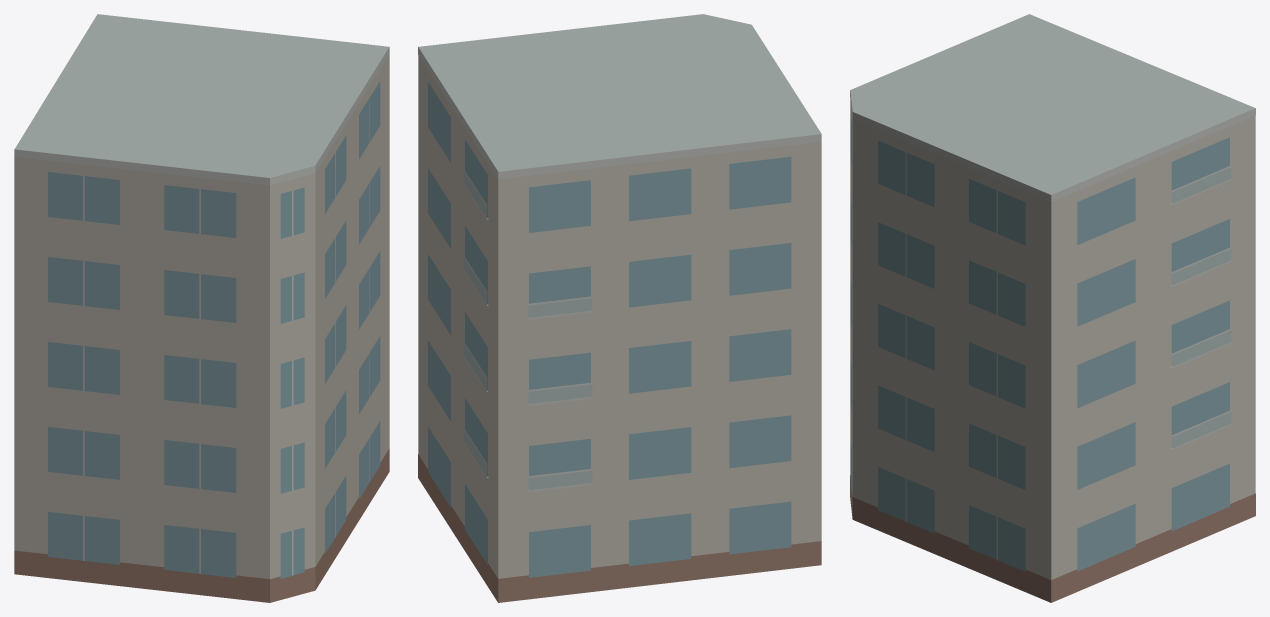
Rendered from survey-upis-32690669.glb.
3 views of the same model, side by side, from view 1: azimuth 30°, elevation 25°; view 2: azimuth 150°, elevation 25°; view 3: azimuth 270°, elevation 25° (orthographic). The views are drawn at different scales.
Visible parts, largest first — view 1: survey-upis-32690669.tmp; view 2: survey-upis-32690669.tmp; view 3: survey-upis-32690669.tmp.
Part boxes in pixels (<box>): survey-upis-32690669.tmp: <box>14,14,389,602</box>; survey-upis-32690669.tmp: <box>418,14,821,602</box>; survey-upis-32690669.tmp: <box>850,14,1255,602</box>.
Size of the model in its own units: 13.24 by 13.9 by 12.53.
